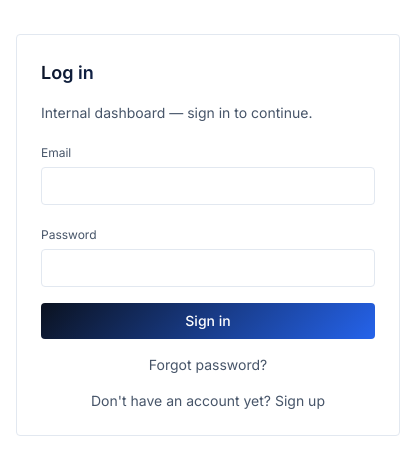
Test case: Login form › shows auth error from Supabase without succeeding
Type "a@b.com" into the field labelled "Email" at x=208, y=186, box [41, 167, 375, 205]
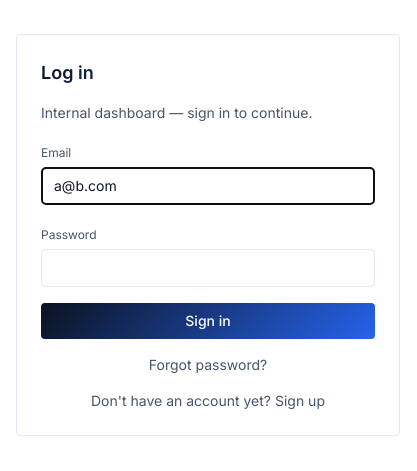
Type "secret12" into the password field labelled "Password" at x=208, y=268, box [41, 249, 375, 287]
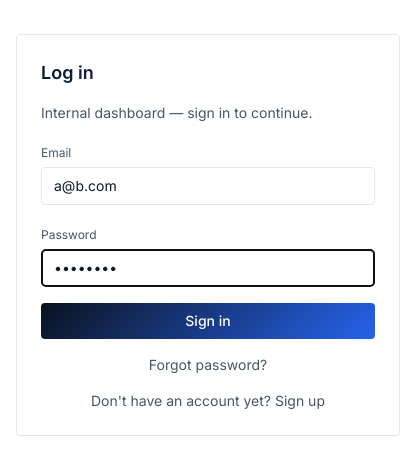
Click the button "Sign in" at x=208, y=321, box [41, 303, 375, 339]
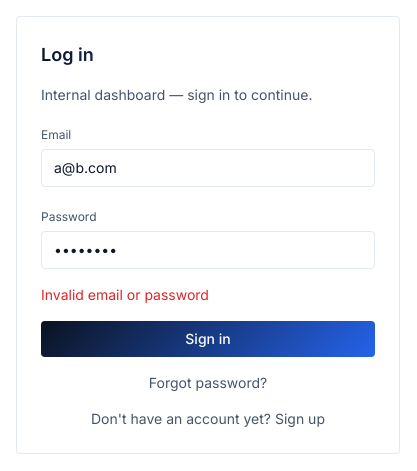
Check: the button "Sign in" is enabled, box [41, 321, 375, 357]
Check: the text "Invalid email or password" is shown, box [41, 286, 209, 303]
